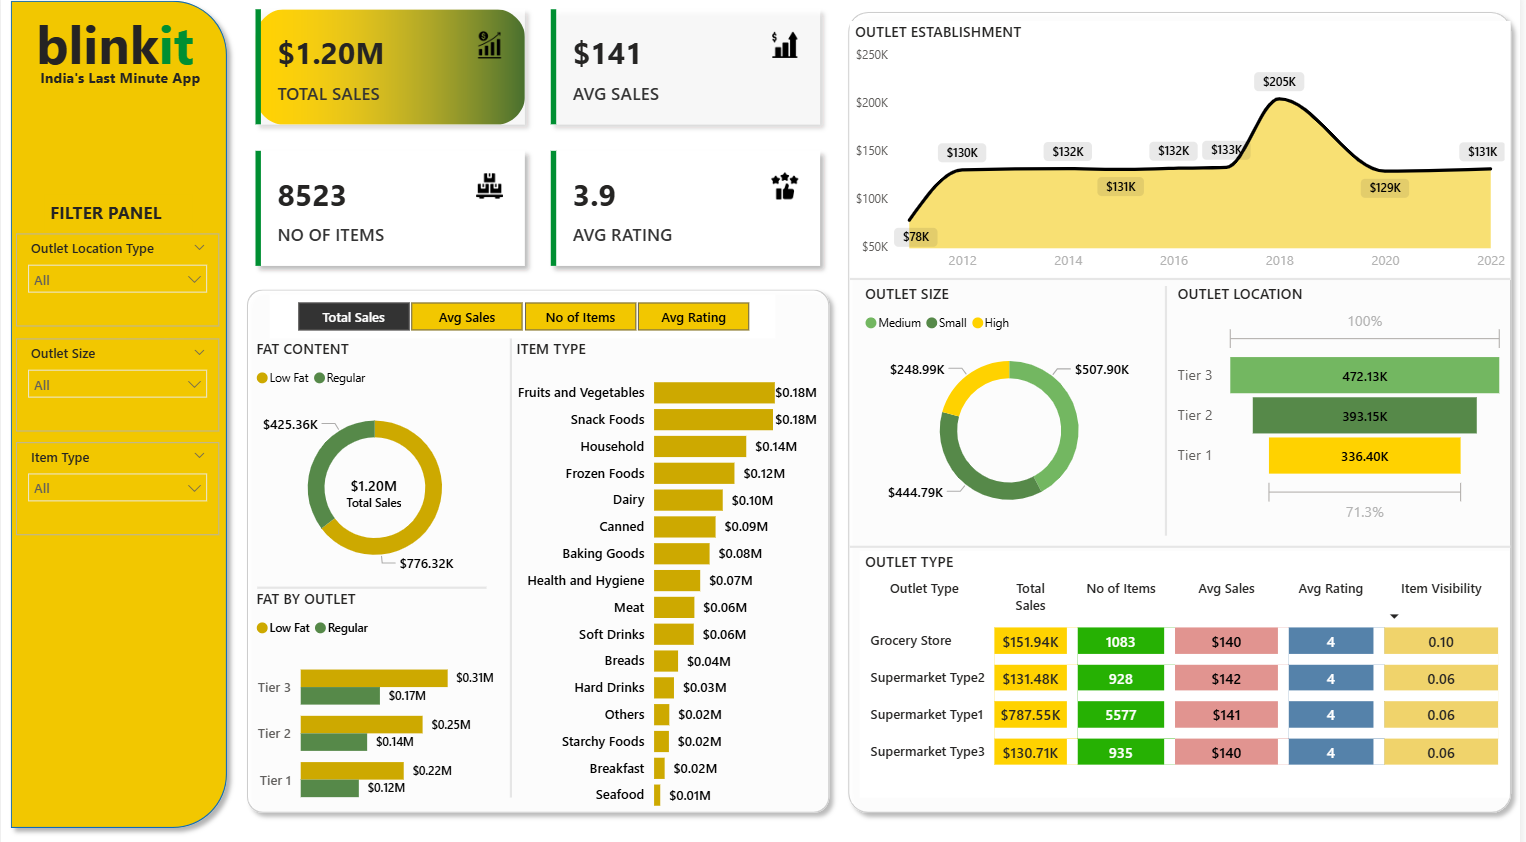

This screenshot's page, from the dashboard's own definition file:
{"tool":"powerbi","page":{"name":"Page 1","canvas":[1400,800],"ordinal":0},"visuals":[{"type":"shape","box":[0,0,217.1,780],"z":0},{"type":"textbox","box":[22.9,10.2,164.1,85.2],"z":1000},{"type":"textbox","box":[30.5,66.1,170.4,39.4],"z":2000},{"type":"cardVisual","fields":{"Data":["BlinkIT Grocery Data.Total Sales","BlinkIT Grocery Data.Avg Sales","BlinkIT Grocery Data.No of Items","BlinkIT Grocery Data.Avg Rating"]},"box":[217.1,0,554.3,270],"z":3000},{"type":"shape","box":[217.1,265.7,554.3,500],"z":4000},{"type":"donutChart","title":"FAT CONTENT","fields":{"Y":["BlinkIT Grocery Data.Total Sales"],"Category":["BlinkIT Grocery Data.Item Fat Content"]},"box":[230,320,228.6,230],"z":5000},{"type":"cardVisual","fields":{"Data":["BlinkIT Grocery Data.Total Sales"]},"box":[300,430,86.2,58.8],"z":6000},{"type":"slicer","fields":{"Values":["Metrics.Metrics"]},"box":[247.1,280,465.7,40],"z":7000},{"type":"clusteredBarChart","title":"FAT BY OUTLET","fields":{"Y":["BlinkIT Grocery Data.Total Sales"],"Category":["BlinkIT Grocery Data.Outlet Location Type"],"Series":["BlinkIT Grocery Data.Item Fat Content"]},"box":[230,550,228.6,215.7],"z":8000},{"type":"shape","box":[235.7,530,211.4,40],"z":9000},{"type":"shape","box":[458.6,320,22.9,422.9],"z":10000},{"type":"barChart","title":"ITEM TYPE","fields":{"Y":["BlinkIT Grocery Data.Total Sales"],"Category":["BlinkIT Grocery Data.Item Type"]},"box":[470,320,287.1,445.7],"z":11000},{"type":"shape","box":[771.4,10,628.6,755.7],"z":12000},{"type":"lineChart","title":"OUTLET ESTABLISHMENT","fields":{"Y":["BlinkIT Grocery Data.Total Sales"],"Category":["BlinkIT Grocery Data.Outlet Establishment Year"]},"box":[781.4,27.1,608.6,238.6],"z":13000},{"type":"shape","box":[781.4,245.7,608.6,40],"z":14000},{"type":"donutChart","title":"OUTLET SIZE","fields":{"Y":["BlinkIT Grocery Data.Total Sales"],"Category":["BlinkIT Grocery Data.Outlet Size"]},"box":[791.4,270,275.7,225.7],"z":15000},{"type":"shape","box":[1067.1,271.4,11.4,230],"z":16000},{"type":"funnel","title":"OUTLET LOCATION","fields":{"Y":["Sum(BlinkIT Grocery Data.Sales)"],"Category":["BlinkIT Grocery Data.Outlet Location Type"]},"box":[1078.6,270,311.4,225.7],"z":17000},{"type":"shape","box":[781.4,495.7,608.6,31.4],"z":18000},{"type":"pivotTable","title":"OUTLET TYPE","fields":{"Rows":["BlinkIT Grocery Data.Outlet Type"],"Values":["BlinkIT Grocery Data.Total Sales","BlinkIT Grocery Data.No of Items","BlinkIT Grocery Data.Avg Sales","BlinkIT Grocery Data.Avg Rating","Avg(BlinkIT Grocery Data.Item Visibility)"]},"box":[791.4,515.7,598.6,227.1],"z":19000},{"type":"slicer","fields":{"Values":["BlinkIT Grocery Data.Outlet Location Type"]},"box":[14.3,222.9,187.1,85.7],"z":20000},{"type":"slicer","fields":{"Values":["BlinkIT Grocery Data.Outlet Size"]},"box":[14.3,320,187.1,85.7],"z":21000},{"type":"slicer","fields":{"Values":["BlinkIT Grocery Data.Item Type"]},"box":[14.3,415.7,187.1,85.7],"z":22000},{"type":"textbox","box":[40,187.5,136.2,35],"z":23000}]}

Visuals, with their boxes on the page's 1400x800 design canvas (x1, y1, x2, y2). These are canvas units, not pixel positions in the 1526x842 screenshot, which may show the page scaled, cropped or inside an application window:
shape: <box>0,0,217,780</box>
textbox: <box>23,10,187,95</box>
textbox: <box>30,66,201,106</box>
cardVisual - BlinkIT Grocery Data.Total Sales x BlinkIT Grocery Data.Avg Sales: <box>217,0,771,270</box>
shape: <box>217,266,771,766</box>
"FAT CONTENT" donutChart: <box>230,320,459,550</box>
cardVisual - BlinkIT Grocery Data.Total Sales: <box>300,430,386,489</box>
slicer - Metrics.Metrics: <box>247,280,713,320</box>
"FAT BY OUTLET" clusteredBarChart: <box>230,550,459,766</box>
shape: <box>236,530,447,570</box>
shape: <box>459,320,482,743</box>
"ITEM TYPE" barChart: <box>470,320,757,766</box>
shape: <box>771,10,1400,766</box>
"OUTLET ESTABLISHMENT" lineChart: <box>781,27,1390,266</box>
shape: <box>781,246,1390,286</box>
"OUTLET SIZE" donutChart: <box>791,270,1067,496</box>
shape: <box>1067,271,1078,501</box>
"OUTLET LOCATION" funnel: <box>1079,270,1390,496</box>
shape: <box>781,496,1390,527</box>
"OUTLET TYPE" pivotTable: <box>791,516,1390,743</box>
slicer - BlinkIT Grocery Data.Outlet Location Type: <box>14,223,201,309</box>
slicer - BlinkIT Grocery Data.Outlet Size: <box>14,320,201,406</box>
slicer - BlinkIT Grocery Data.Item Type: <box>14,416,201,501</box>
textbox: <box>40,188,176,222</box>
